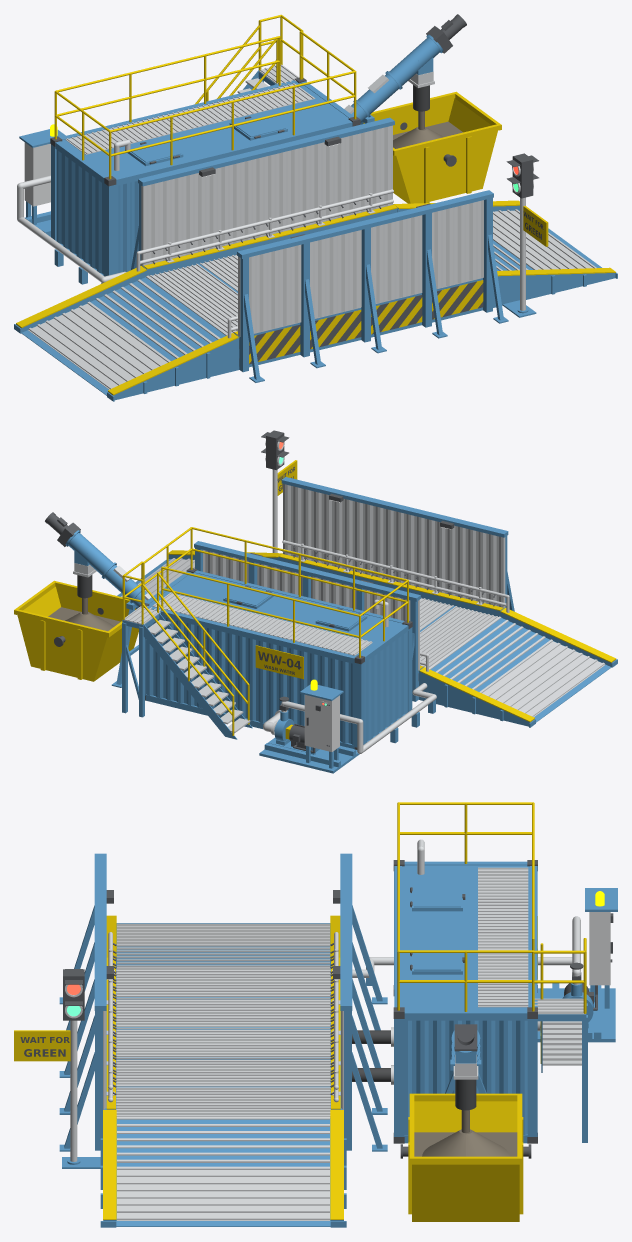
The model's file is wheel-wash.glb.
3 views of the same model, one above another, from view 1: azimuth 30°, elevation 25°; view 2: azimuth 150°, elevation 25°; view 3: azimuth 270°, elevation 25° (orthographic). The views are drawn at different scales.
Visible parts, largest first — view 1: deck_grating, bath_sides, kerb_caps, hazard_stripes, control_cabinet, sludge; view 2: bath_sides, deck_grating, kerb_caps, hazard_stripes, control_cabinet, sludge; view 3: deck_grating, bath_sides, kerb_caps, hazard_stripes, sludge, control_cabinet, discharge_sock.
Part boxes in pixels (box(x1,y1,x2,y2)): deck_grating: box(17, 64, 596, 389); bath_sides: box(14, 34, 617, 401); kerb_caps: box(16, 14, 615, 395); hazard_stripes: box(50, 14, 543, 366); control_cabinet: box(24, 142, 50, 206); sludge: box(393, 111, 462, 148); bath_sides: box(65, 477, 617, 773); deck_grating: box(73, 441, 605, 753); kerb_caps: box(14, 460, 616, 739); hazard_stripes: box(45, 430, 495, 753); control_cabinet: box(304, 694, 339, 751); sludge: box(48, 598, 120, 631); deck_grating: box(65, 839, 585, 1220); bath_sides: box(59, 853, 617, 1227); kerb_caps: box(14, 802, 586, 1221); hazard_stripes: box(20, 860, 613, 1158); sludge: box(414, 1110, 517, 1156); control_cabinet: box(589, 912, 610, 985); discharge_sock: box(352, 1030, 476, 1110).
Size of the model in its own units: 12.26 by 3.62 by 10.09.
